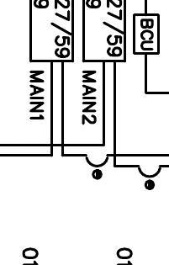BCU: (132, 13, 160, 55)
